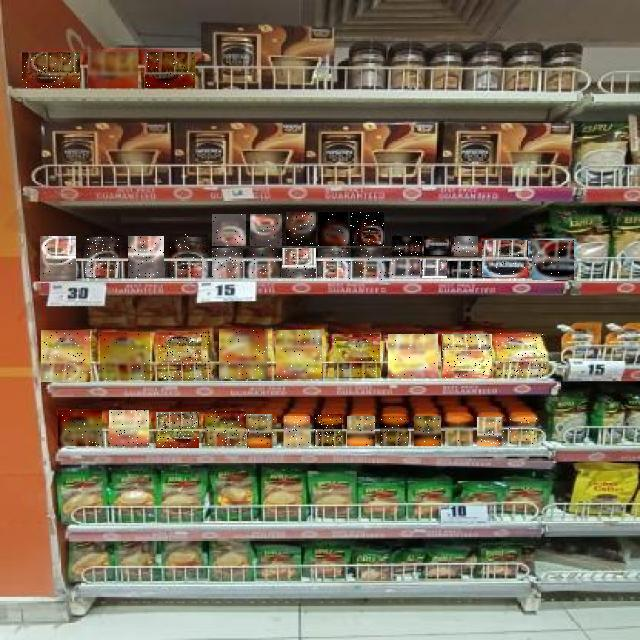Coffee: (41, 330, 90, 382), (220, 329, 270, 379), (158, 332, 210, 380), (101, 332, 151, 380), (496, 333, 546, 379), (276, 330, 322, 379), (442, 334, 492, 378), (388, 334, 438, 378), (22, 52, 80, 88), (334, 334, 380, 378), (145, 52, 195, 88), (88, 52, 138, 88), (483, 240, 529, 278), (169, 234, 208, 278), (532, 240, 574, 280), (41, 236, 77, 281), (58, 411, 102, 447), (156, 412, 199, 448), (128, 236, 164, 278), (85, 236, 121, 278), (109, 411, 149, 447), (205, 411, 246, 446), (351, 212, 385, 246), (212, 214, 246, 246), (354, 248, 388, 280), (250, 214, 282, 246), (318, 212, 348, 246), (286, 212, 316, 246), (246, 248, 280, 278), (282, 248, 316, 278), (318, 249, 351, 279), (248, 414, 276, 448), (212, 248, 243, 278), (315, 414, 343, 446), (380, 416, 408, 446), (347, 416, 375, 446), (445, 416, 473, 446), (478, 417, 506, 446), (414, 416, 441, 446), (509, 417, 537, 445), (284, 416, 310, 446), (393, 236, 423, 256), (424, 236, 451, 256), (392, 259, 420, 278), (451, 260, 479, 278), (454, 236, 478, 256), (422, 259, 447, 278)
